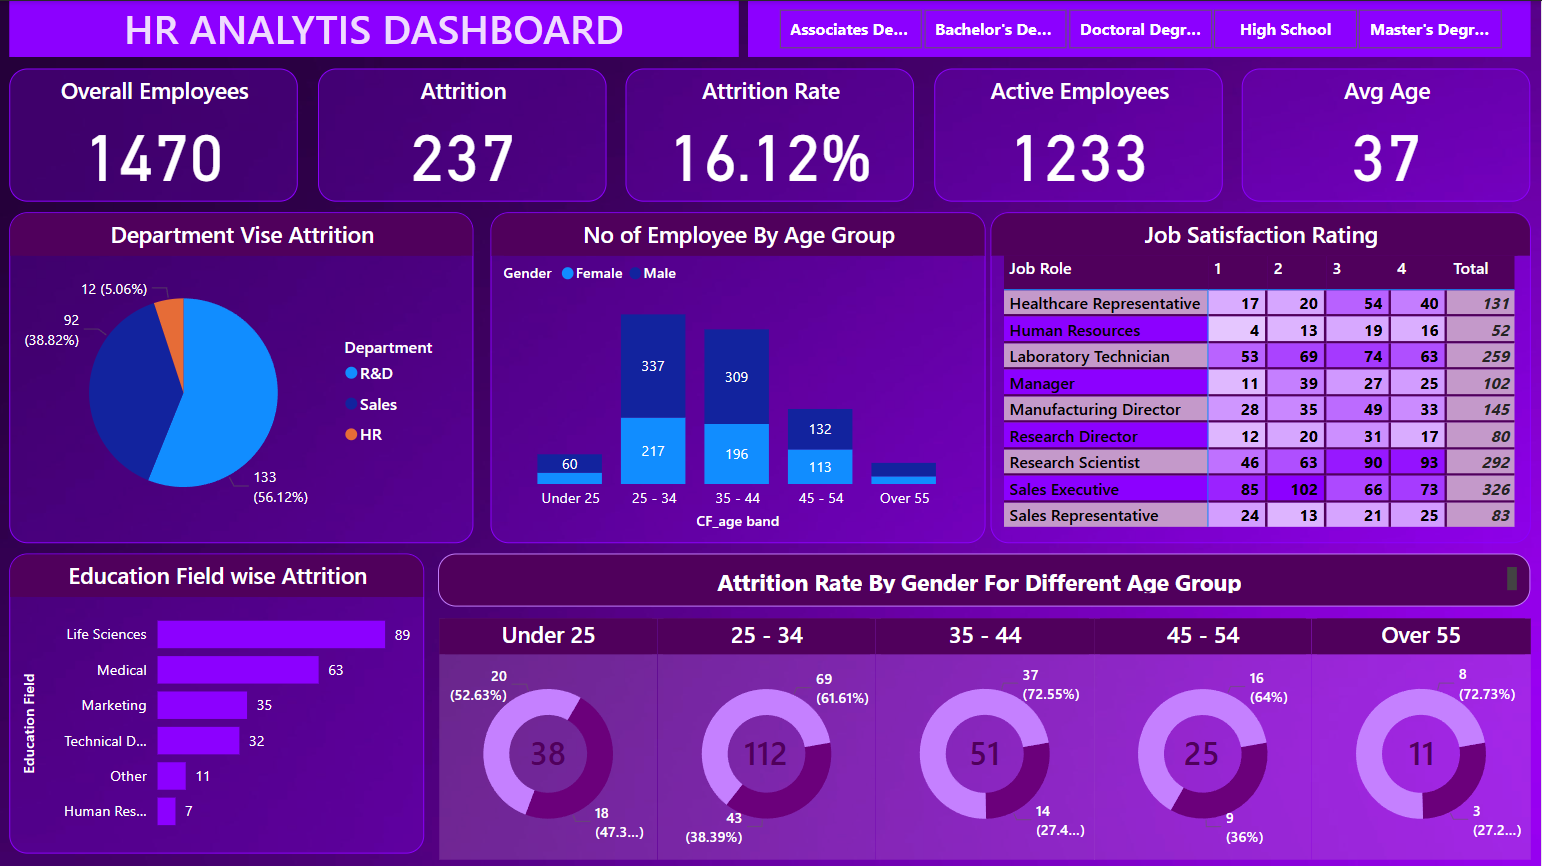

What the dashboard file says about the page in this screenshot:
{"tool":"powerbi","page":{"name":"Page 1","canvas":[1280,720],"ordinal":0},"visuals":[{"type":"card","title":"Overall Employees","fields":{"Values":["Sum(Data.Employee Count)"]},"box":[9.3,55.8,239.5,110.5],"z":0},{"type":"card","title":"Attrition","fields":{"Values":["Sum(Data.Attrition Count)"]},"box":[264.8,55.8,239.5,110.5],"z":1000},{"type":"card","title":"Attrition Rate","fields":{"Values":["Data.Attrition Rate"]},"box":[520.4,55.8,239.5,110.5],"z":2000},{"type":"card","title":"Active Employees","fields":{"Values":["Data.Active Employees"]},"box":[775.9,55.8,239.5,110.5],"z":3000},{"type":"card","title":"Avg Age","fields":{"Values":["Avg(Data.Age)"]},"box":[1031.4,55.8,239.5,110.5],"z":4000},{"type":"pieChart","title":"Department Vise Attrition","fields":{"Category":["Data.Department"],"Y":["Sum(Data.Attrition Count)"]},"box":[9.3,175.6,384.9,274.4],"z":5000},{"type":"columnChart","title":"No of Employee By Age Group","fields":{"Category":["Data.CF_age band"],"Y":["Sum(Data.Employee Count)"],"Series":["Data.Gender"]},"box":[408.1,175.6,410.5,274.4],"z":6000},{"type":"pivotTable","title":"Job Satisfaction Rating","fields":{"Rows":["Data.Job Role"],"Columns":["Data.Job Satisfaction"],"Values":["Sum(Data.Employee Count)"]},"box":[823.3,175.6,447.7,274.4],"z":7000},{"type":"barChart","title":"Education Field wise Attrition","fields":{"Category":["Data.Education Field"],"Y":["Sum(Data.Attrition Count)"]},"box":[9.3,458.1,344.2,248.8],"z":8000},{"type":"donutChart","title":"Under 25","fields":{"Category":["Data.Gender"],"Y":["Sum(Data.Attrition Count)"],"Series":["Data.CF_age band"]},"box":[365.4,511.8,181,200],"z":9000},{"type":"textbox","box":[365.1,458.1,905.8,44.2],"z":10000},{"type":"donutChart","title":"25 - 34","fields":{"Category":["Data.Gender"],"Y":["Sum(Data.Attrition Count)"],"Series":["Data.CF_age band"]},"box":[547,511.8,180.3,200],"z":11000},{"type":"donutChart","title":"35 - 44","fields":{"Category":["Data.Gender"],"Y":["Sum(Data.Attrition Count)"],"Series":["Data.CF_age band"]},"box":[727.3,511.8,181.5,200],"z":12000},{"type":"donutChart","title":"45 - 54","fields":{"Category":["Data.Gender"],"Y":["Sum(Data.Attrition Count)"],"Series":["Data.CF_age band"]},"box":[908.9,511.8,180.3,200],"z":13000},{"type":"donutChart","title":"Over 55","fields":{"Category":["Data.Gender"],"Y":["Sum(Data.Attrition Count)"],"Series":["Data.CF_age band"]},"box":[1089.2,511.8,181.5,200],"z":14000},{"type":"card","fields":{"Values":["Sum(Data.Attrition Count)"]},"box":[431.4,598.8,50,50],"z":15000},{"type":"card","fields":{"Values":["Sum(Data.Attrition Count)"]},"box":[612.8,598.8,48.8,50],"z":16000},{"type":"card","fields":{"Values":["Sum(Data.Attrition Count)"]},"box":[794.2,598.8,48.8,50],"z":17000},{"type":"card","fields":{"Values":["Sum(Data.Attrition Count)"]},"box":[973.3,598.8,50,50],"z":18000},{"type":"card","fields":{"Values":["Sum(Data.Attrition Count)"]},"box":[1155.8,598.8,50,50],"z":19000},{"type":"textbox","title":"HR ANALYTIS DASHBOARD","box":[9.3,0,604.7,46.5],"z":20000},{"type":"slicer","fields":{"Values":["Data.Education"]},"box":[622.1,0,648.8,46.5],"z":21000}]}

Visuals, with their boxes in screenshot pixels (x1, y1, x2, y2), scaled from the page's 1280x720 canvas onto the 1542x866 screenshot:
"Overall Employees" card: box(11, 67, 300, 200)
"Attrition" card: box(319, 67, 608, 200)
"Attrition Rate" card: box(627, 67, 915, 200)
"Active Employees" card: box(935, 67, 1223, 200)
"Avg Age" card: box(1243, 67, 1531, 200)
"Department Vise Attrition" pieChart: box(11, 211, 475, 541)
"No of Employee By Age Group" columnChart: box(492, 211, 986, 541)
"Job Satisfaction Rating" pivotTable: box(992, 211, 1531, 541)
"Education Field wise Attrition" barChart: box(11, 551, 426, 850)
"Under 25" donutChart: box(440, 616, 658, 856)
textbox: box(440, 551, 1531, 604)
"25 - 34" donutChart: box(659, 616, 876, 856)
"35 - 44" donutChart: box(876, 616, 1095, 856)
"45 - 54" donutChart: box(1095, 616, 1312, 856)
"Over 55" donutChart: box(1312, 616, 1531, 856)
card - Sum(Data.Attrition Count): box(520, 720, 580, 780)
card - Sum(Data.Attrition Count): box(738, 720, 797, 780)
card - Sum(Data.Attrition Count): box(957, 720, 1016, 780)
card - Sum(Data.Attrition Count): box(1173, 720, 1233, 780)
card - Sum(Data.Attrition Count): box(1392, 720, 1453, 780)
"HR ANALYTIS DASHBOARD" textbox: box(11, 0, 740, 56)
slicer - Data.Education: box(749, 0, 1531, 56)
